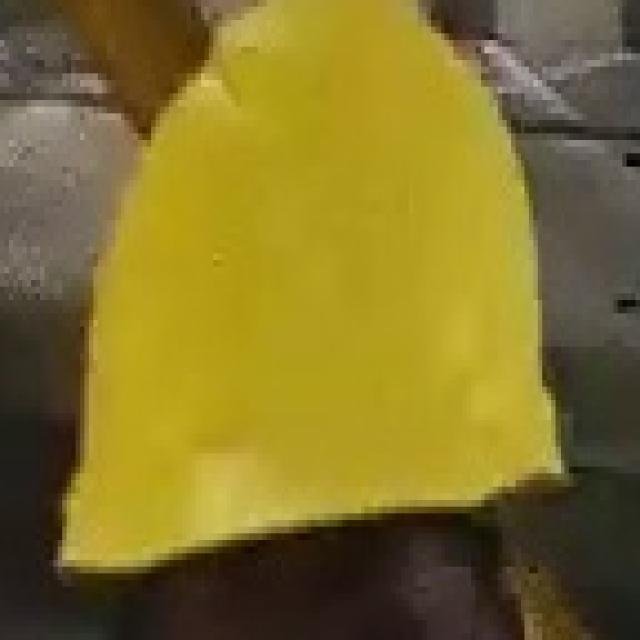yellow helmet: (69, 6, 571, 578)
